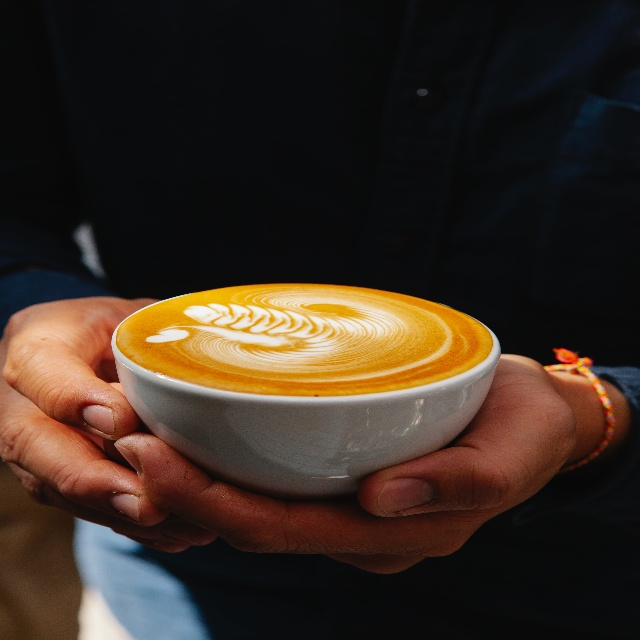Sin_guantes: (115, 354, 577, 575), (1, 296, 217, 556)
